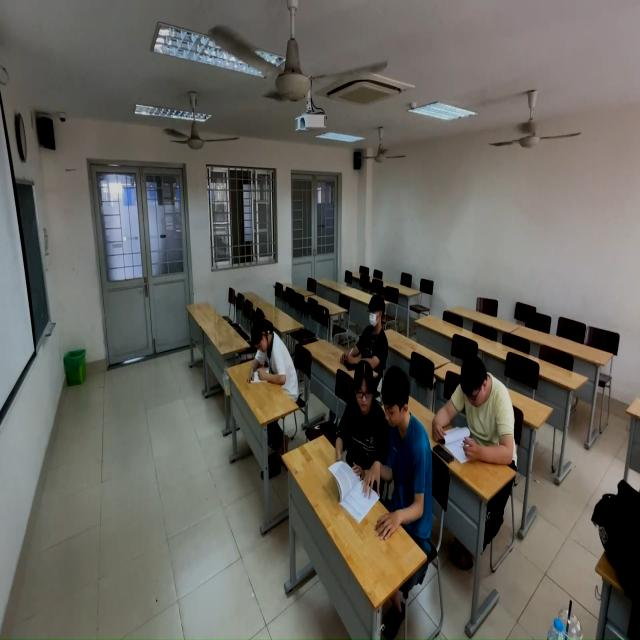read: (359, 354, 433, 554), (443, 343, 528, 472), (319, 355, 383, 491), (242, 316, 302, 403), (342, 295, 395, 374)
